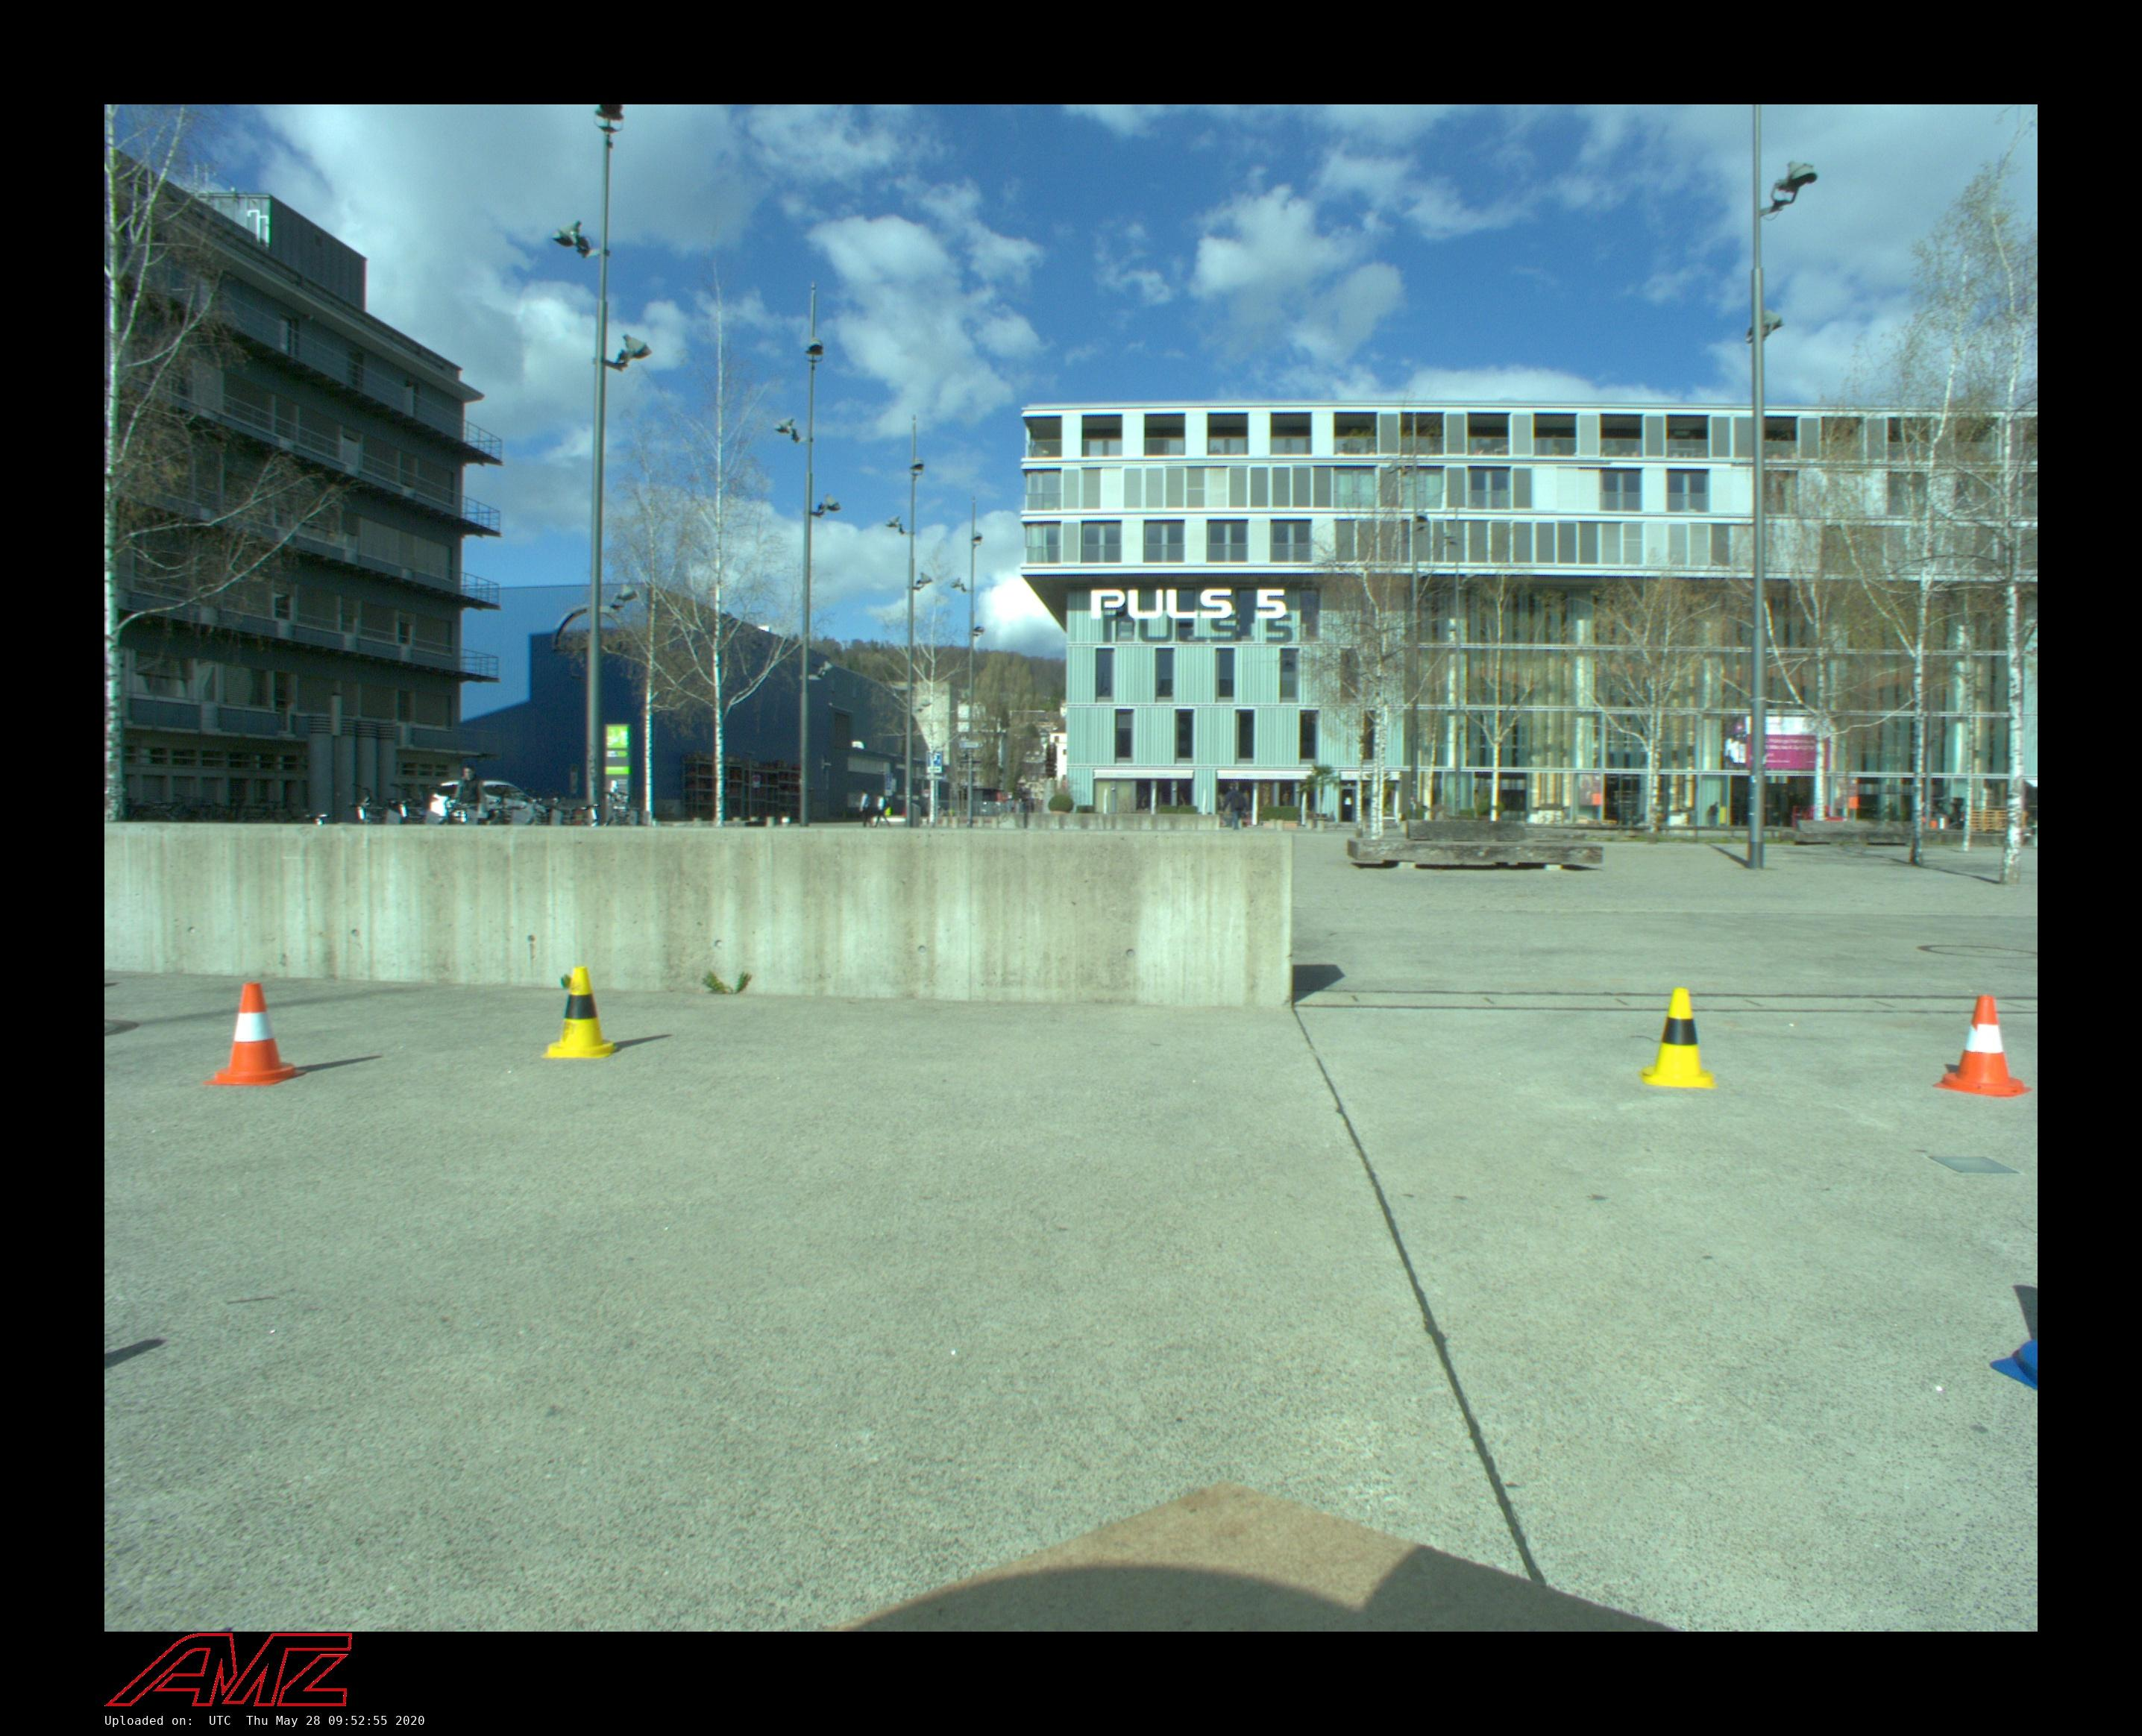orange_cone: (1929, 994, 2034, 1097), (206, 981, 307, 1086)
yellow_cone: (1641, 987, 1717, 1088), (540, 967, 620, 1058)
